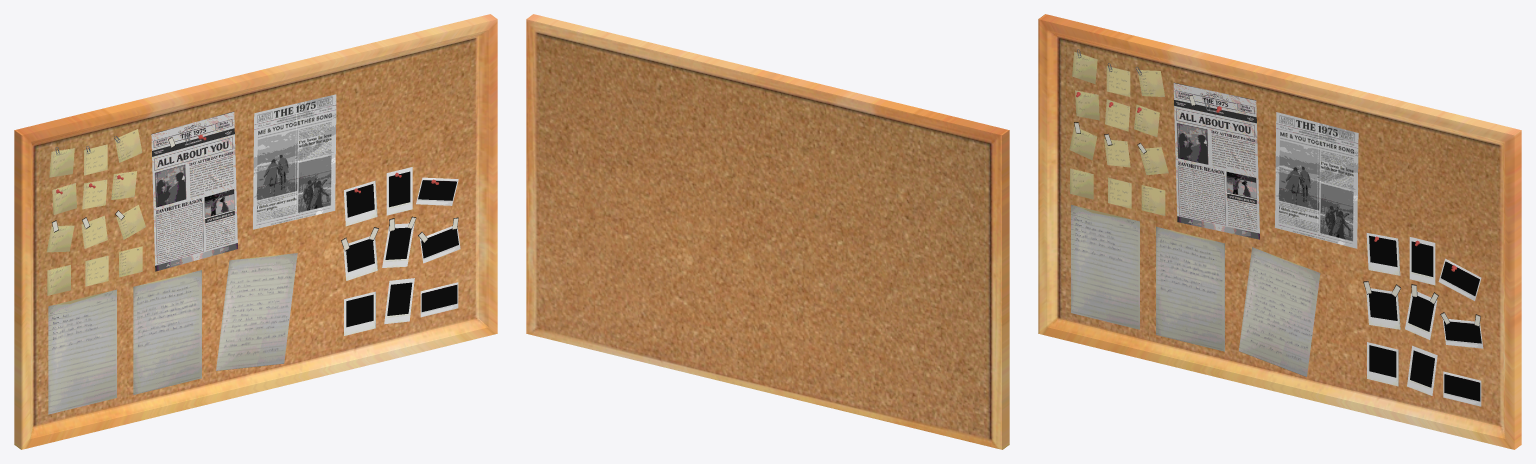
Rendered from corkboard.glb.
3 renders of one model, left to right at view 1: azimuth 30°, elevation 25°; view 2: azimuth 150°, elevation 25°; view 3: azimuth 330°, elevation 25°, orthographic.
Parts seen in each view (by area): view 1: CorkBoard, Newspaper, Newspaper.001, Paper Short, Paper Long, Paper Medium, Polaroid_01_Free.001, Polaroid_01_Free.002, Polaroid_02_Free.001, Polaroid_01_Free, Polaroid_02_Free.002, Polaroid_02_Free (+15 smaller); view 2: CorkBoard; view 3: CorkBoard, Newspaper, Newspaper.001, Paper Short, Paper Long, Paper Medium, Polaroid_01_Free.001, Polaroid_01_Free.002, Polaroid_02_Free.001, Polaroid_01_Free, Polaroid_02_Free.002, Polaroid_02_Free (+15 smaller).
Part boxes in pixels (x1,y1,x2,y2): CorkBoard: (14, 14, 497, 449); Newspaper: (151, 111, 237, 271); Newspaper.001: (253, 94, 336, 229); Paper Short: (216, 253, 297, 370); Paper Long: (48, 289, 116, 414); Paper Medium: (133, 270, 201, 394); Polaroid_01_Free.001: (341, 227, 378, 280); Polaroid_01_Free.002: (344, 180, 377, 226); Polaroid_02_Free.001: (382, 216, 416, 267); Polaroid_01_Free: (344, 291, 375, 335); Polaroid_02_Free.002: (386, 167, 412, 215); Polaroid_02_Free: (384, 278, 414, 324); CorkBoard: (526, 14, 1009, 449); CorkBoard: (1038, 14, 1521, 449); Newspaper: (1173, 82, 1259, 239); Newspaper.001: (1275, 112, 1358, 248); Paper Short: (1239, 247, 1320, 376); Paper Long: (1071, 204, 1139, 329); Paper Medium: (1156, 226, 1224, 351); Polaroid_01_Free.001: (1363, 281, 1400, 329); Polaroid_01_Free.002: (1366, 233, 1400, 275); Polaroid_02_Free.001: (1405, 284, 1438, 339); Polaroid_01_Free: (1367, 342, 1398, 386); Polaroid_02_Free.002: (1409, 237, 1435, 285); Polaroid_02_Free: (1407, 345, 1437, 395).
Size of the model in its own units: 1.38 by 0.8681 by 0.048.
9 materials, 7 textured.
